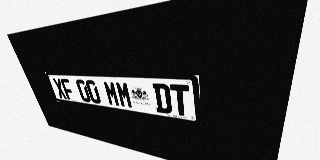0: (75, 79, 92, 103), (85, 80, 102, 104)
D: (152, 83, 172, 114)
F: (60, 78, 76, 100)
M: (115, 81, 133, 109), (103, 81, 121, 107)
T: (170, 84, 191, 117)
X: (52, 78, 67, 99)
